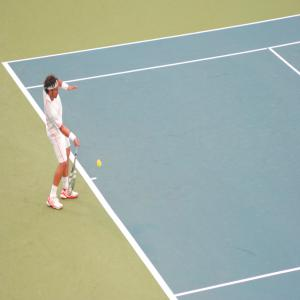TennisBall: (98, 161, 102, 167)
